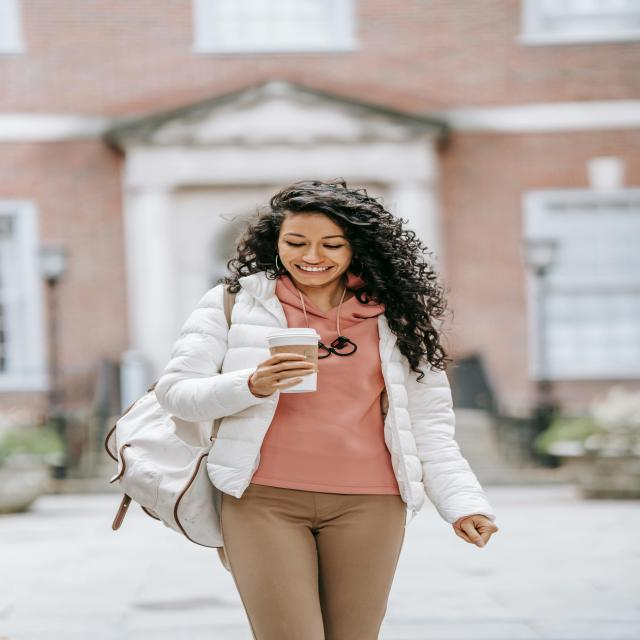cup: (265, 326, 324, 394)
